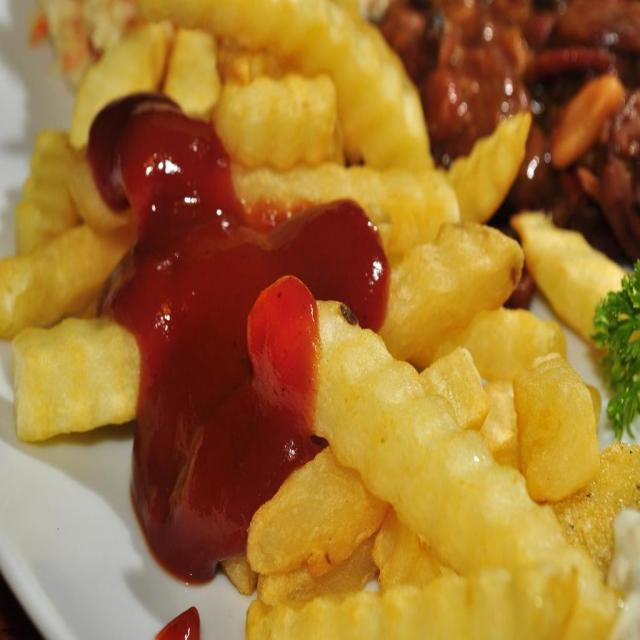French fries: (237, 282, 623, 617), (13, 222, 525, 448), (243, 355, 490, 595), (131, 0, 437, 176), (460, 298, 590, 505), (500, 179, 640, 370), (252, 561, 584, 640), (373, 217, 529, 355), (0, 220, 165, 350), (209, 160, 464, 236), (69, 27, 219, 142), (213, 74, 345, 168), (450, 94, 536, 212), (7, 120, 69, 258)
